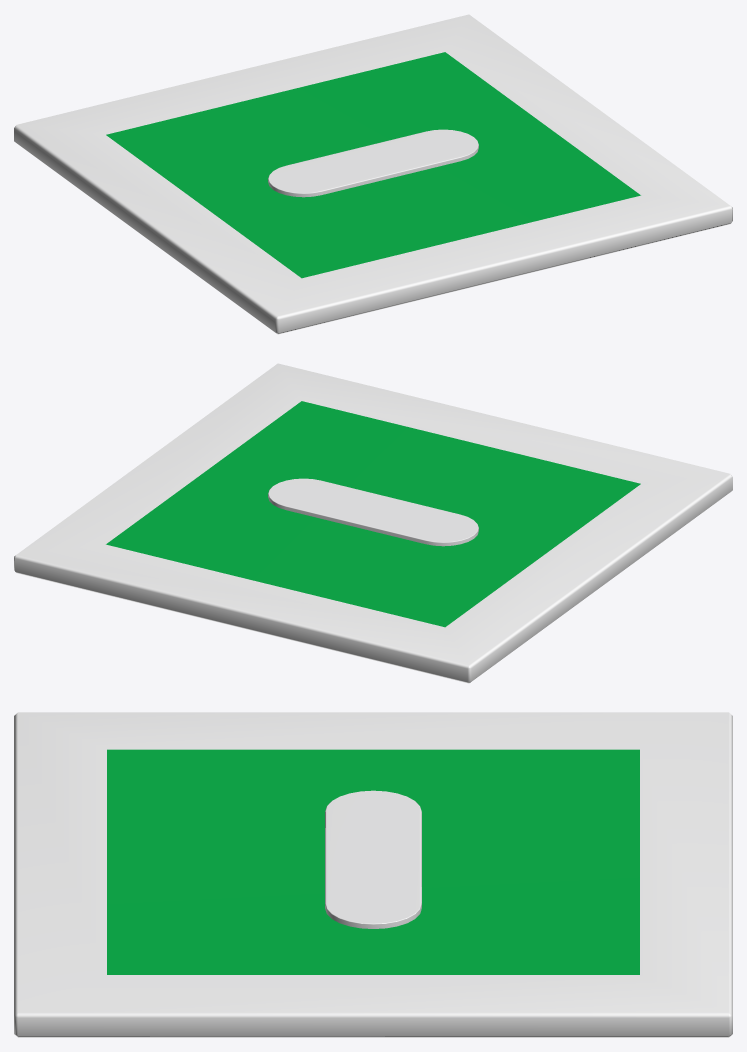
Rendered from Store_13_Vinyl_Box_1.glb.
3 views of the same model, one above another, from view 1: azimuth 30°, elevation 25°; view 2: azimuth 150°, elevation 25°; view 3: azimuth 270°, elevation 25° (orthographic). The views are drawn at different scales.
Visible parts, largest first — view 1: Store_13_Vinyl_Box_1; view 2: Store_13_Vinyl_Box_1; view 3: Store_13_Vinyl_Box_1.
Boxes of the visible parts, x1=… form: Store_13_Vinyl_Box_1: x1=14, y1=14, x2=732, y2=334; Store_13_Vinyl_Box_1: x1=14, y1=363, x2=732, y2=683; Store_13_Vinyl_Box_1: x1=14, y1=712, x2=732, y2=1037.
Bounding box in the file's own units: 0.434 × 0.0203 × 0.434.
1 material, 1 textured.
